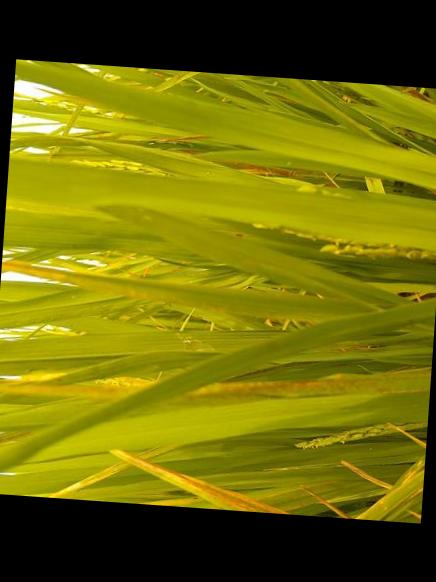Leaf Streak: (1, 261, 287, 317), (110, 449, 295, 515), (168, 369, 431, 404), (0, 382, 139, 398)
